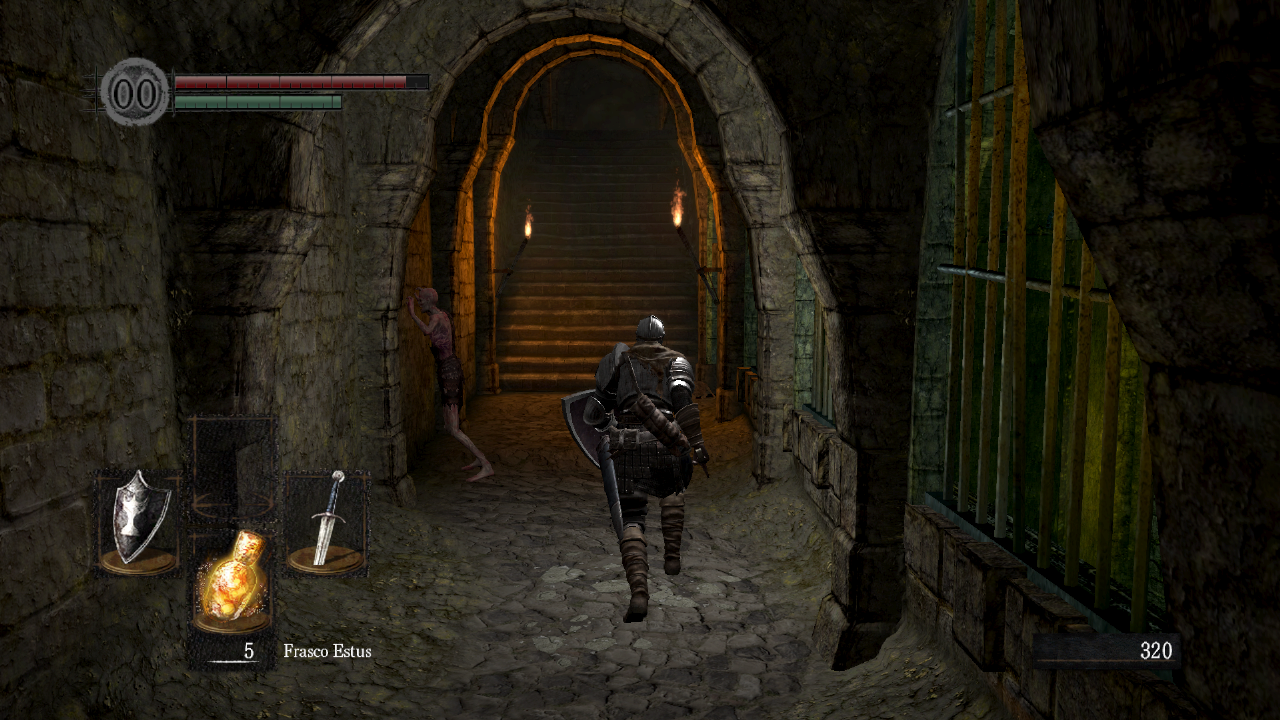hollow: (407, 286, 495, 483)
player: (561, 315, 712, 623)
